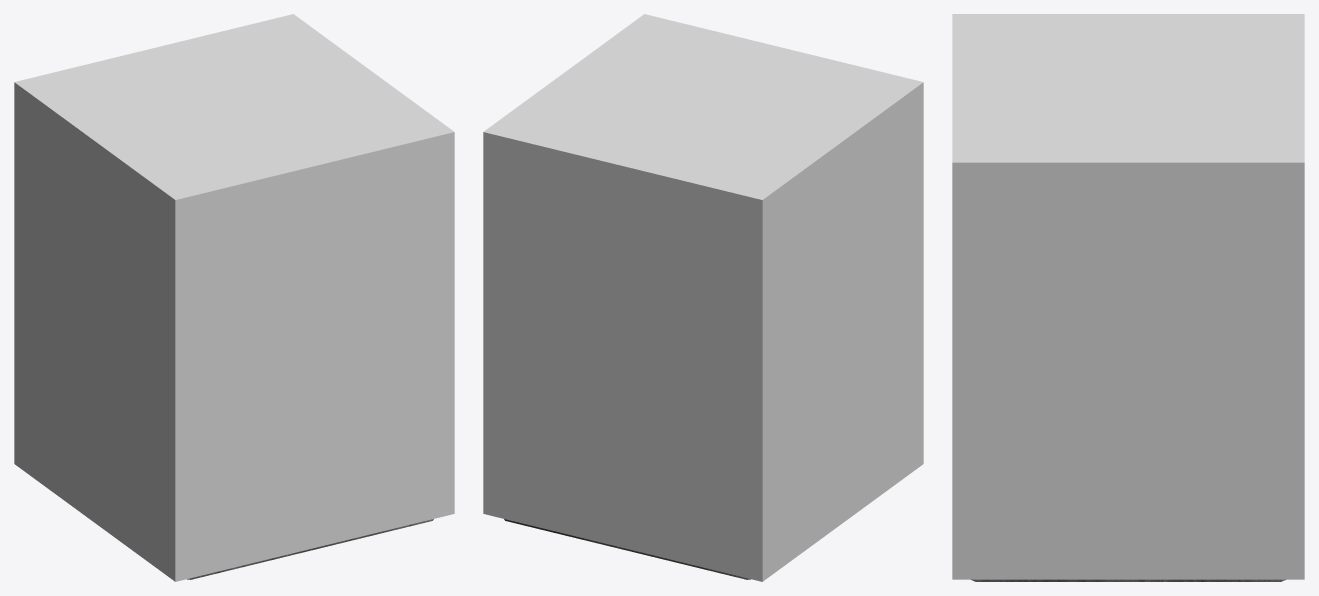
File: dragonstooth.dae
3 views of the same model, side by side, from view 1: azimuth 30°, elevation 25°; view 2: azimuth 150°, elevation 25°; view 3: azimuth 270°, elevation 25° (orthographic). The views are drawn at different scales.
Visible parts, largest first — view 1: bounds, dragonstooth125-Pivot; view 2: bounds, dragonstooth125-Pivot; view 3: bounds, dragonstooth125-Pivot.
Boxes of the visible parts, <box> form: bounds: <box>14,14,454,581</box>; dragonstooth125-Pivot: <box>187,519,433,579</box>; bounds: <box>483,14,923,581</box>; dragonstooth125-Pivot: <box>504,519,750,579</box>; bounds: <box>952,14,1304,579</box>; dragonstooth125-Pivot: <box>971,579,1285,581</box>.
Bounding box in the file's own units: 150 × 198 × 150.
